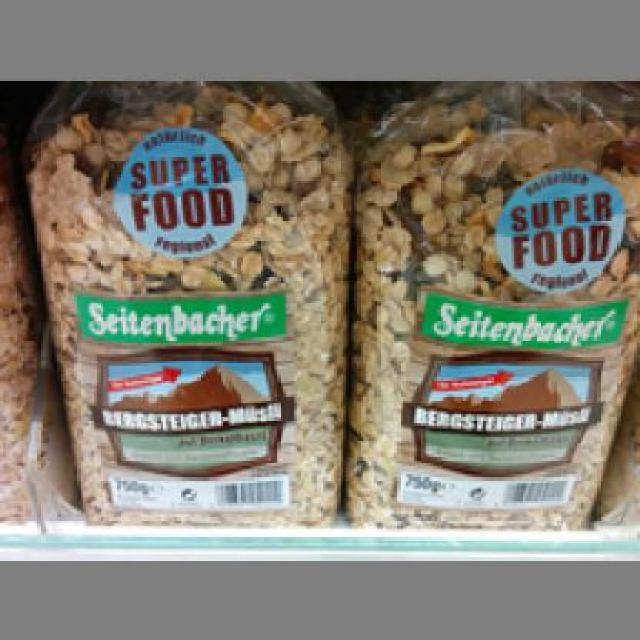Cereal: (22, 89, 348, 520), (348, 96, 632, 532)
